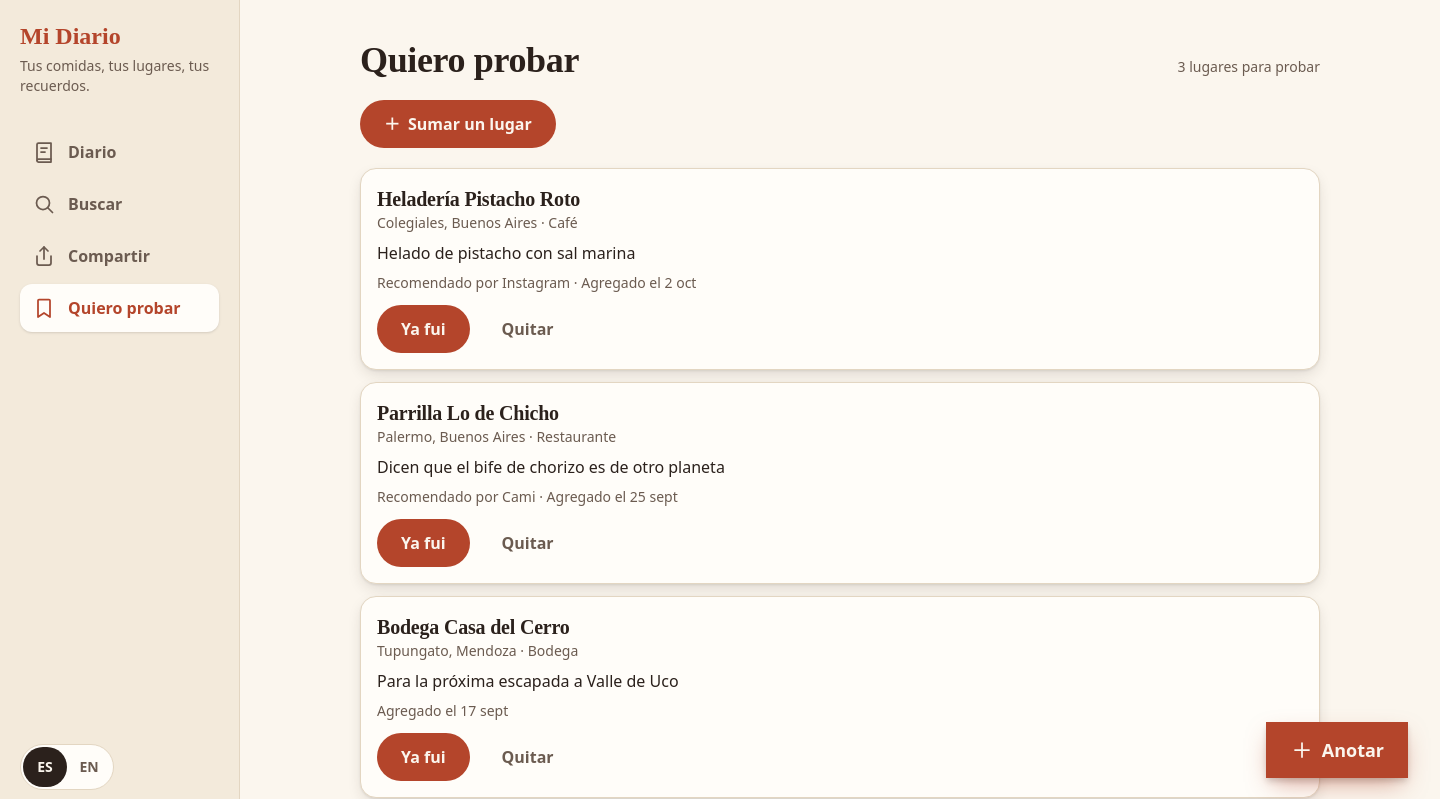
Test: Wishlist ("Quiero probar") › adding a place › can add a place you already have, without creating a duplicate
The width and height of the screenshot is (1440, 799).
Click the button "＋ Sumar un lugar" at [458, 124], box [360,100,556,148]
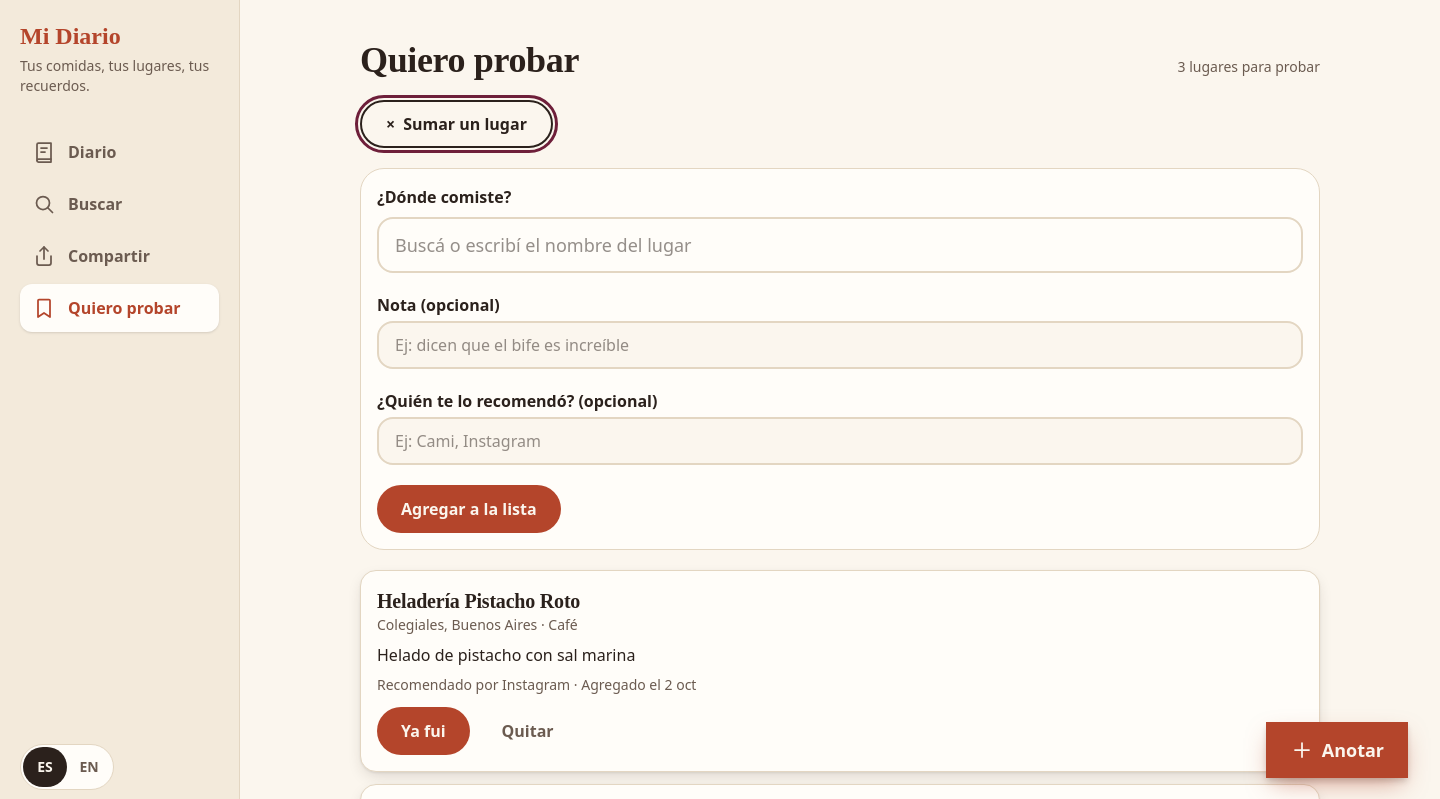
Type "choripan" into the field labelled "¿Dónde comiste?" at [840, 245], box [377,217,1303,273]
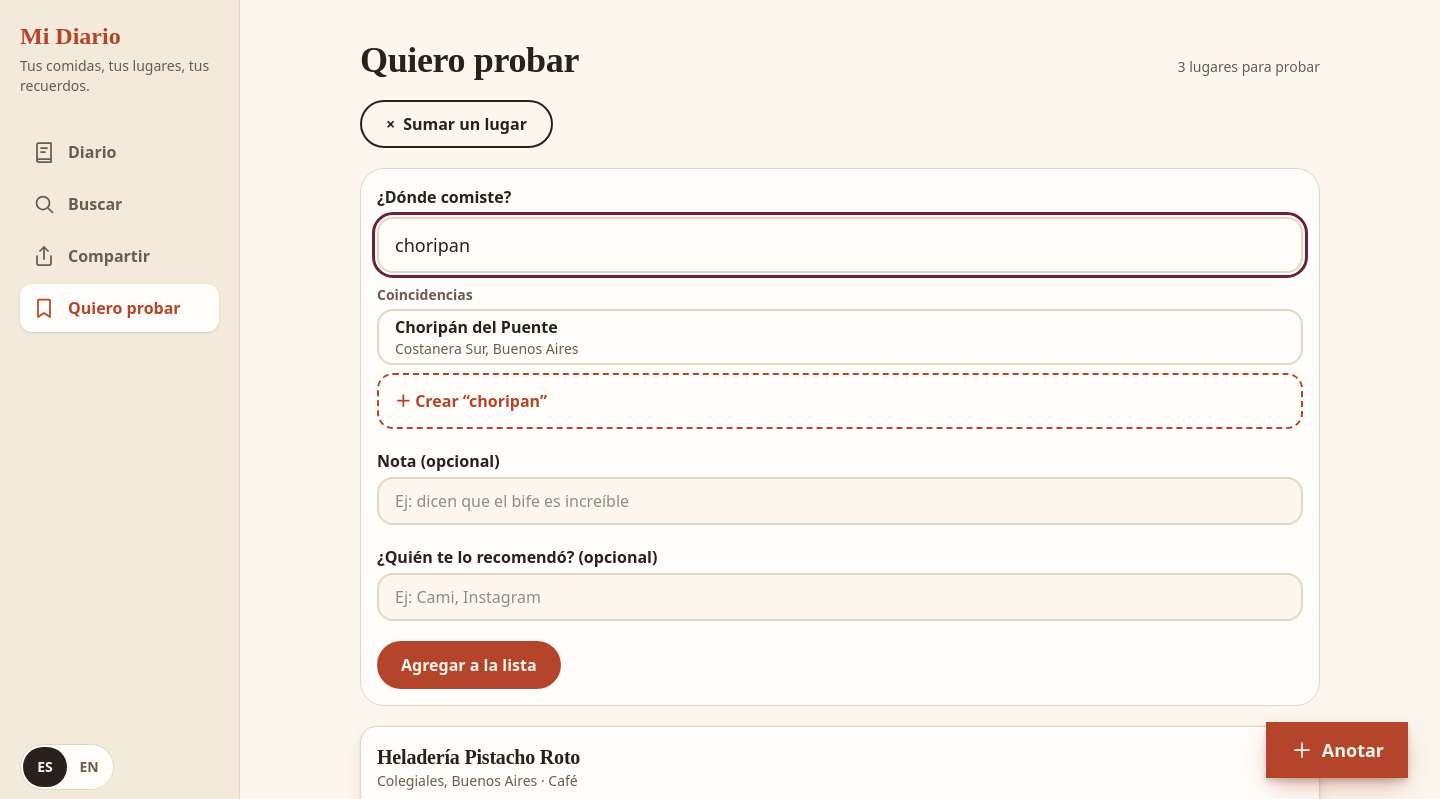
Click the button "Choripán del Puente Costanera Sur, Buenos Aires" at [476, 327], box [377,309,1303,365]
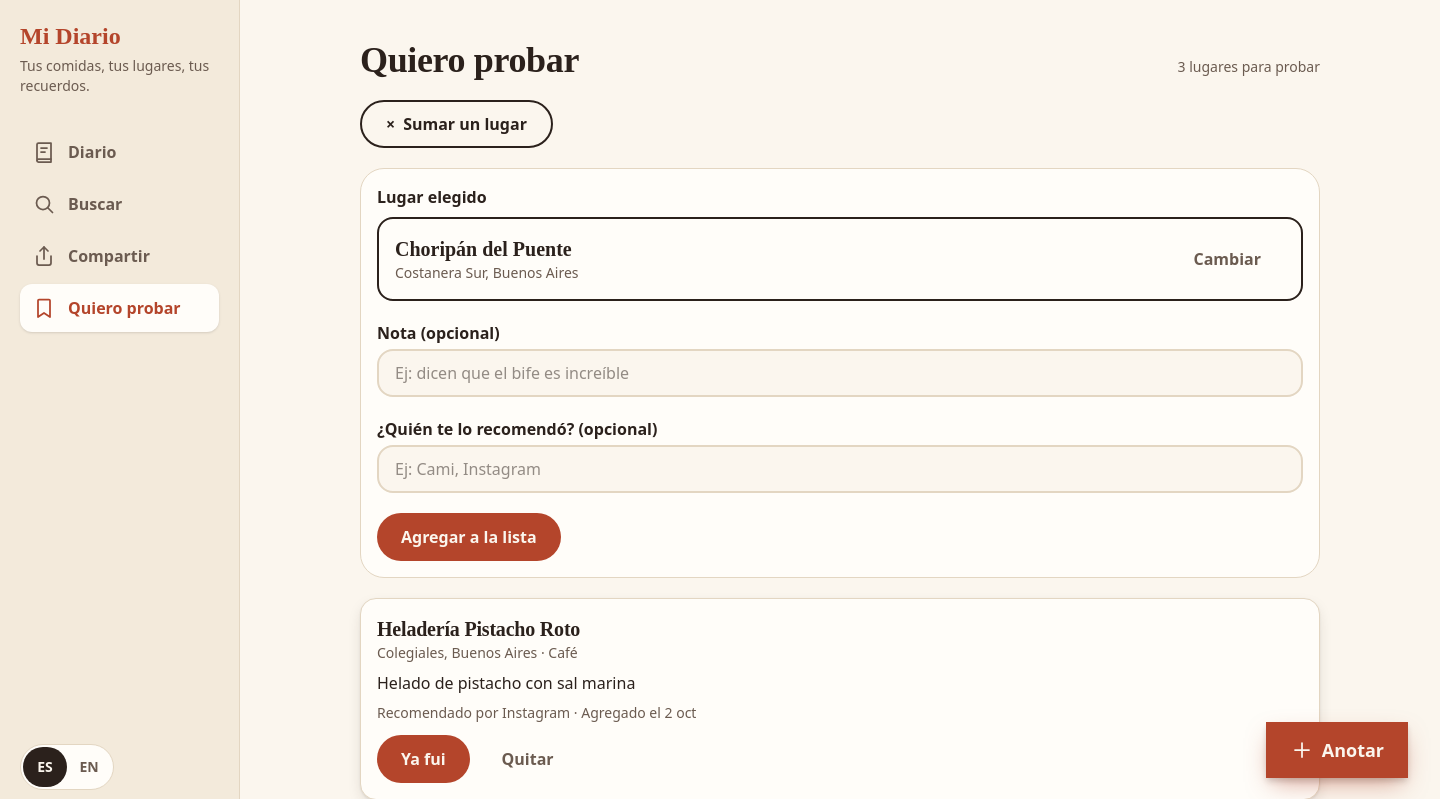
Click the button "Agregar a la lista" at [469, 537], box [377,513,561,561]
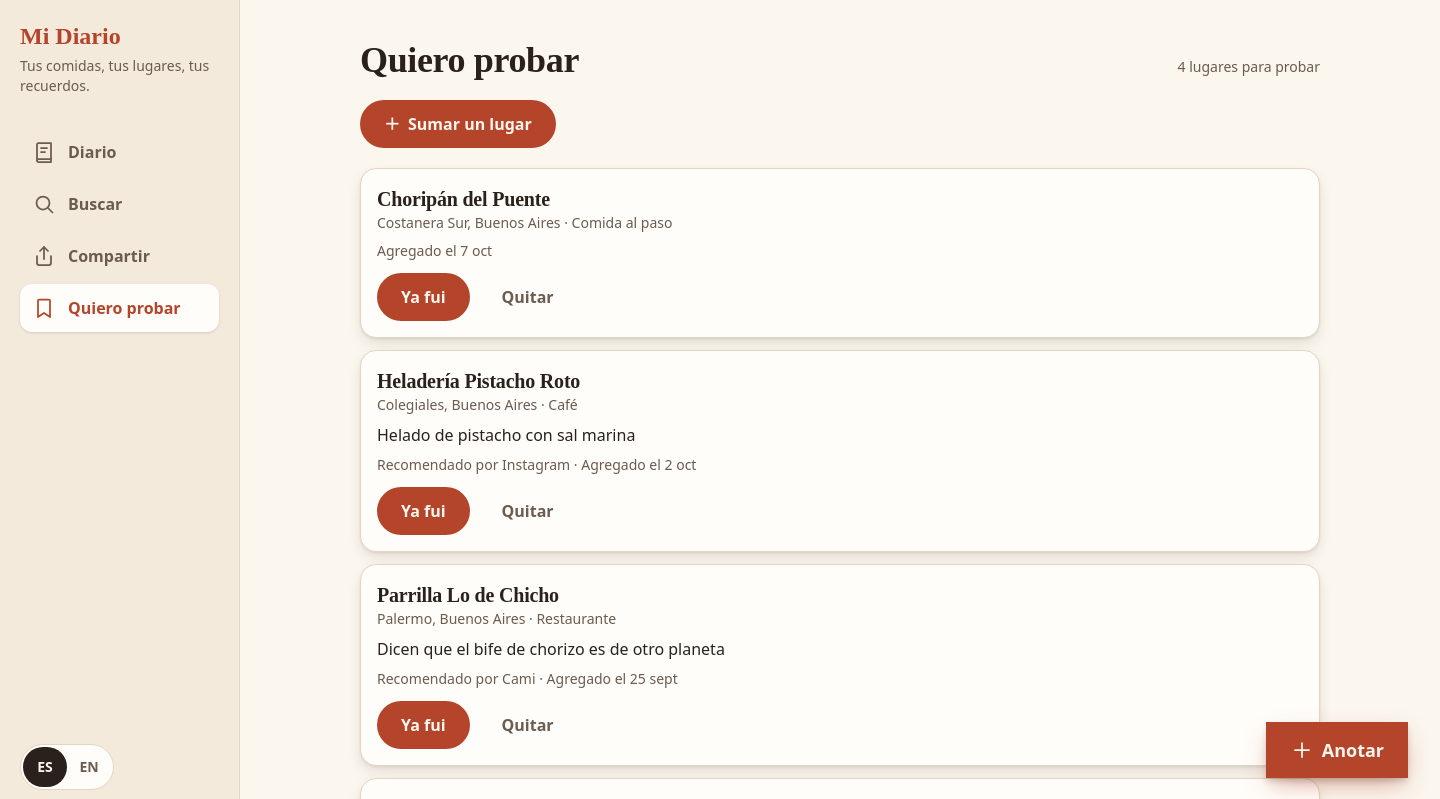
Expected: the text "4 lugares para probar" is shown, [1178,57,1320,77]
